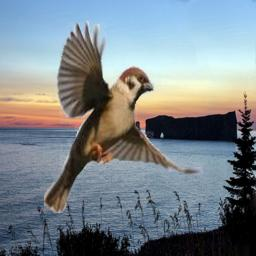Sparrow: (44, 19, 203, 213)
